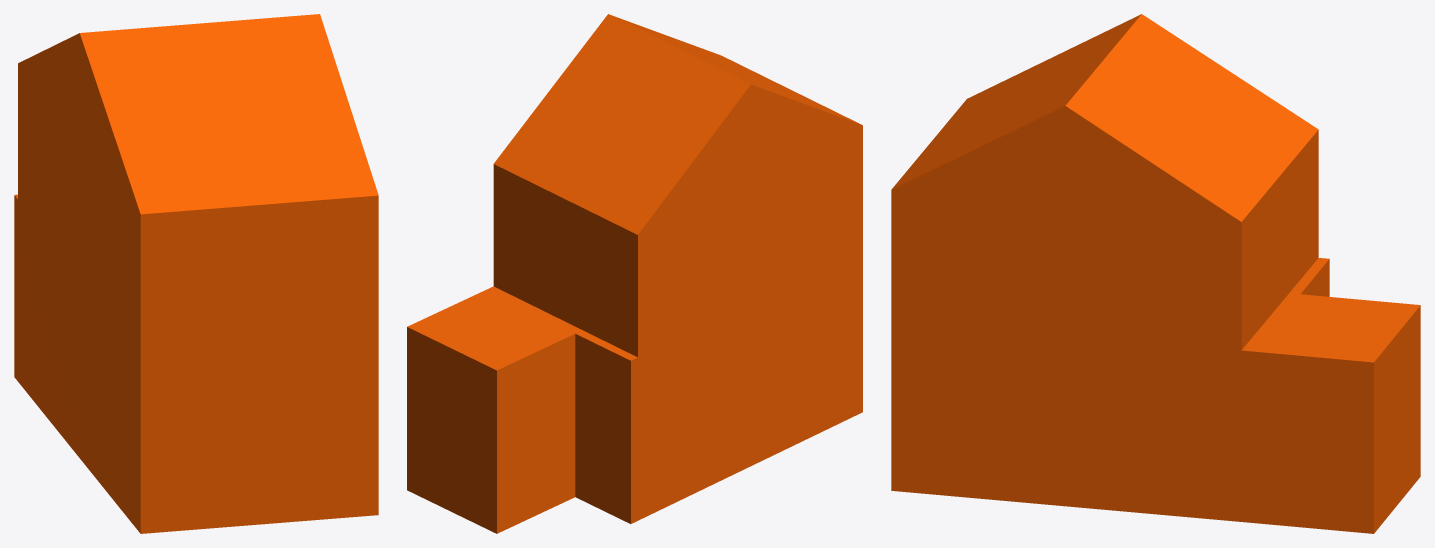
File: DEHB01ALn0001MyA.dae
3 views of the same model, side by side, from view 1: azimuth 30°, elevation 25°; view 2: azimuth 150°, elevation 25°; view 3: azimuth 270°, elevation 25° (orthographic). The views are drawn at different scales.
Size of the model in its own units: 8.02 by 13.39 by 11.17.
